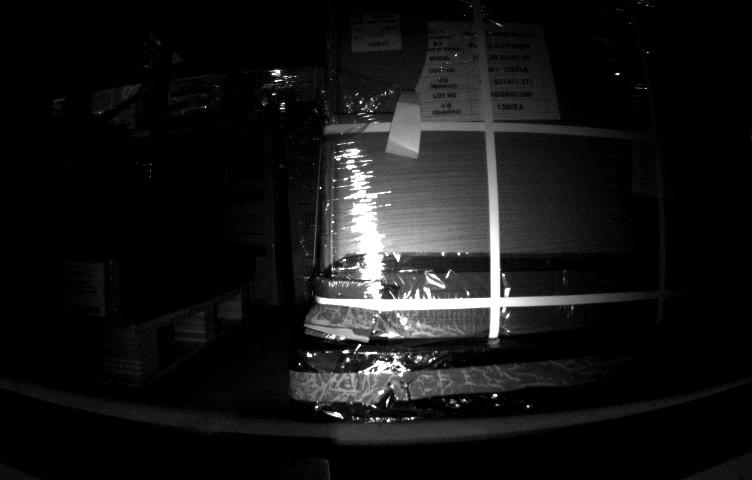True Barcode: (355, 13, 404, 48)
